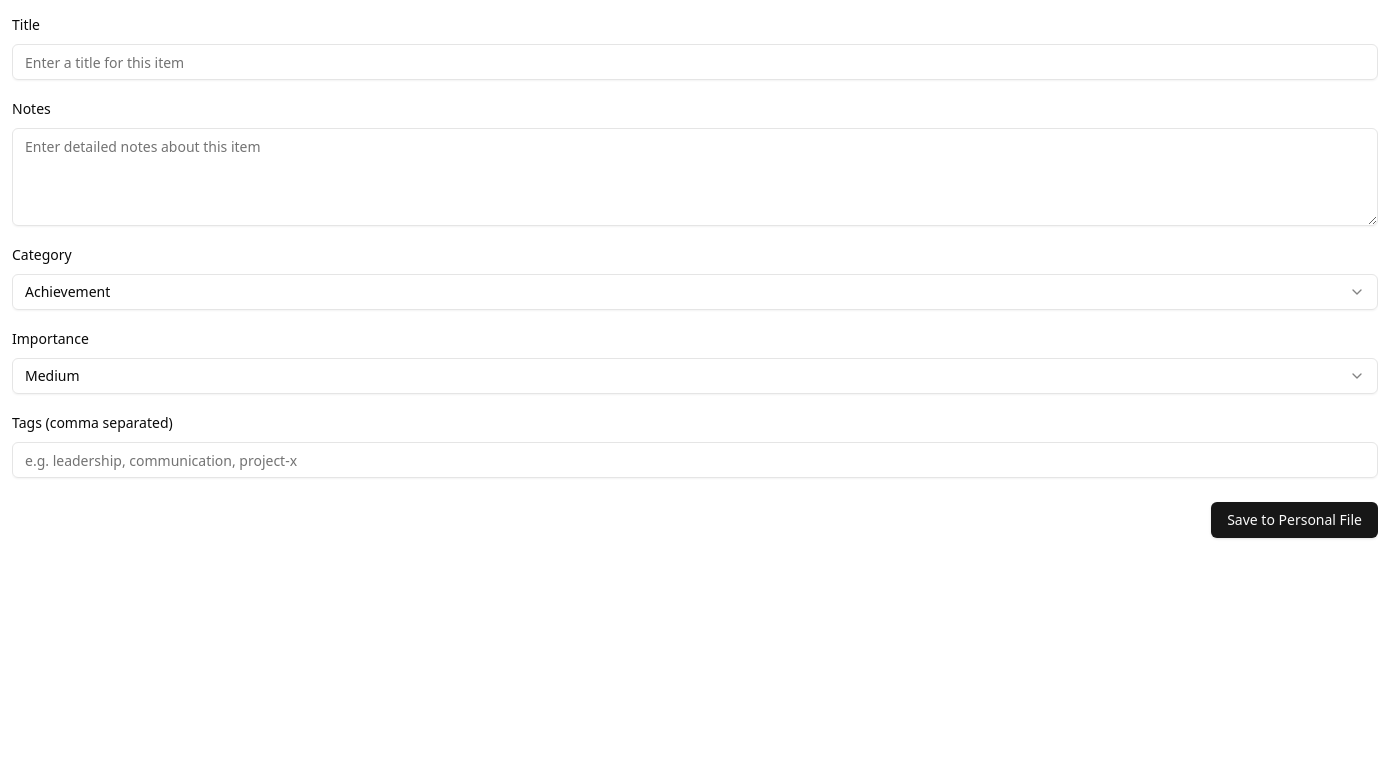
PersonalFileItemForm › validates required fields
Click the button "Save to Personal File" at (1295, 520), box [1211, 502, 1378, 538]
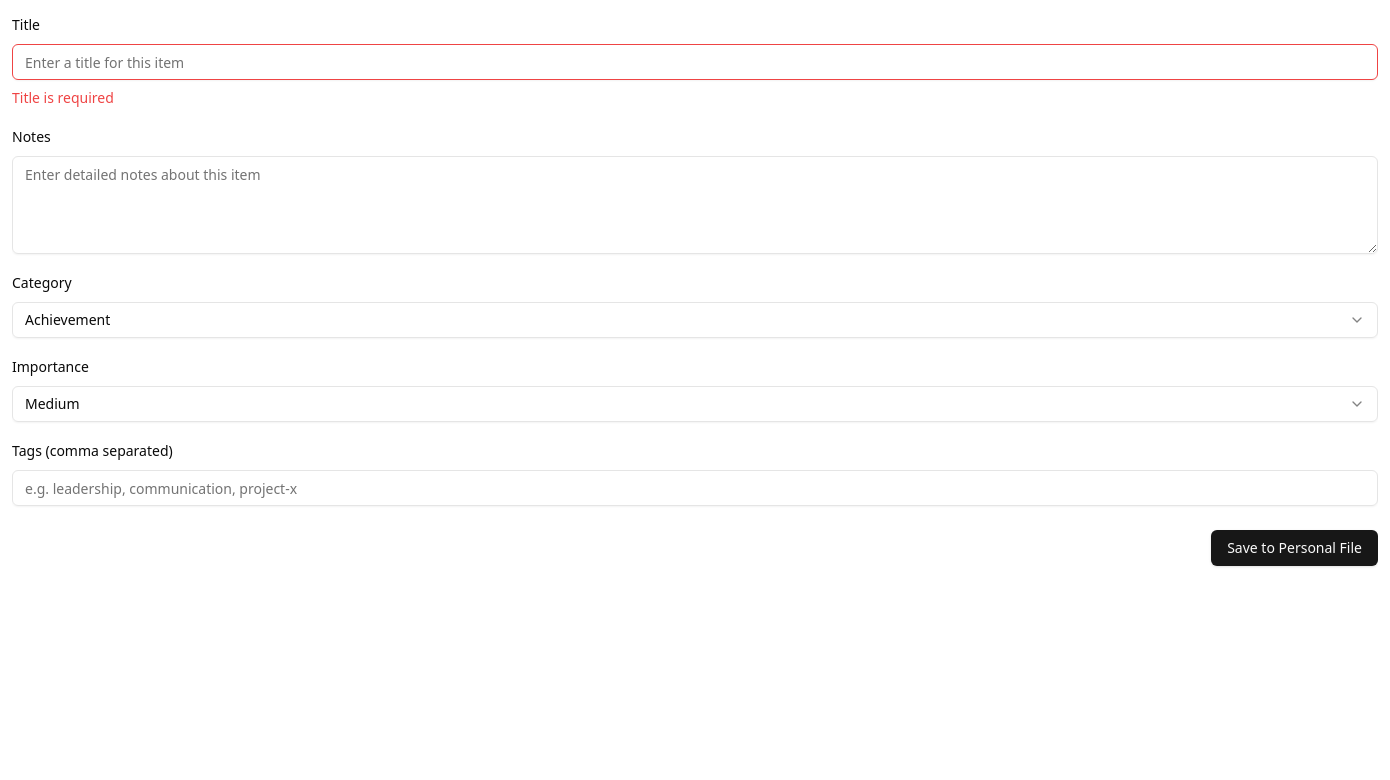
expect the text "Title is required" is shown: met, box [12, 88, 114, 107]
